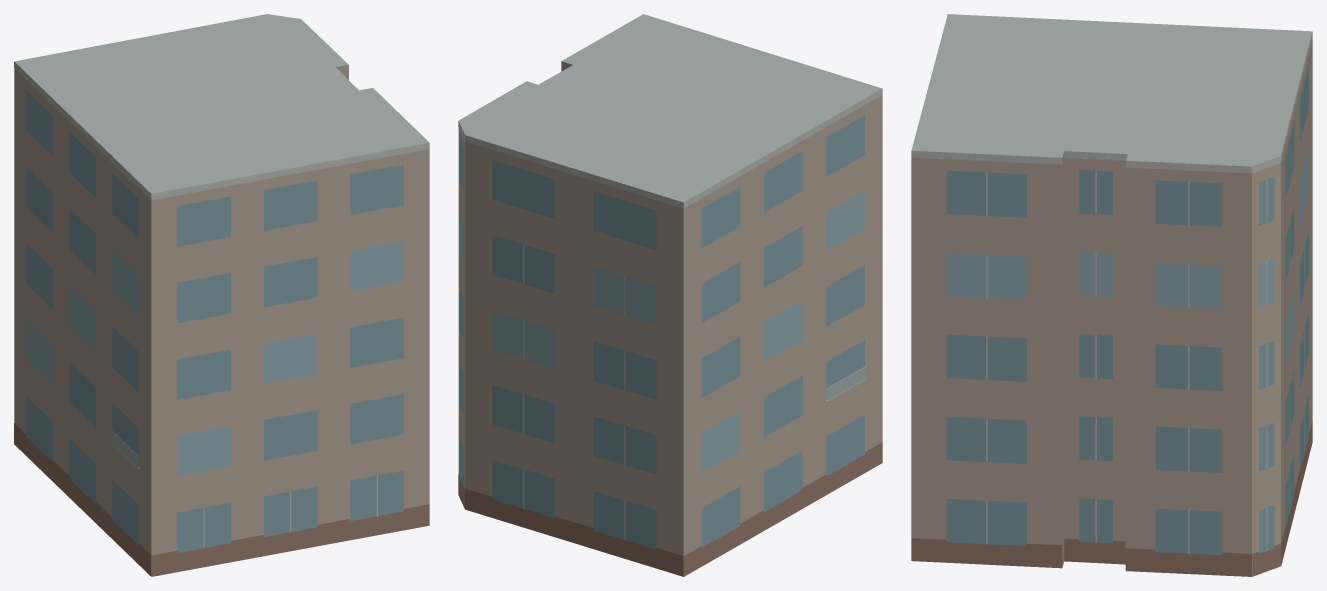
The model's file is survey-upis-32669113.glb.
The picture shows the model from 3 angles, left to right: view 1: azimuth 30°, elevation 25°; view 2: azimuth 150°, elevation 25°; view 3: azimuth 270°, elevation 25°; orthographic projection. The views are drawn at different scales.
Parts seen in each view (by area): view 1: survey-upis-32669113.tmp; view 2: survey-upis-32669113.tmp; view 3: survey-upis-32669113.tmp.
Boxes of the visible parts, bbox=[...] form: survey-upis-32669113.tmp: bbox=[14, 14, 429, 576]; survey-upis-32669113.tmp: bbox=[458, 14, 882, 576]; survey-upis-32669113.tmp: bbox=[911, 14, 1312, 576].
Bounding box in the file's own units: 11.65 × 14.6 × 12.95.
